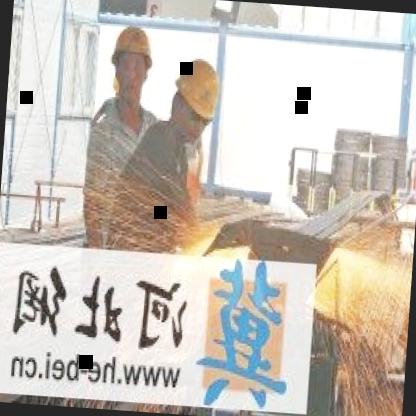helmet: (164, 44, 226, 147), (104, 17, 163, 109)
